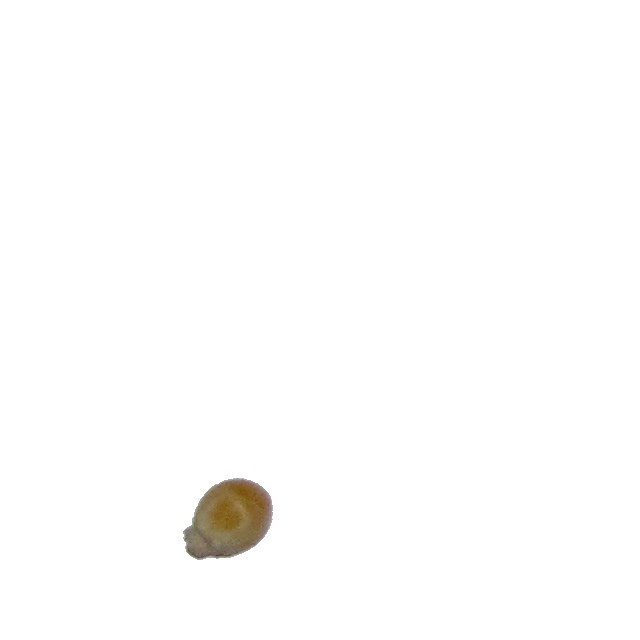mais: (182, 477, 274, 561)
